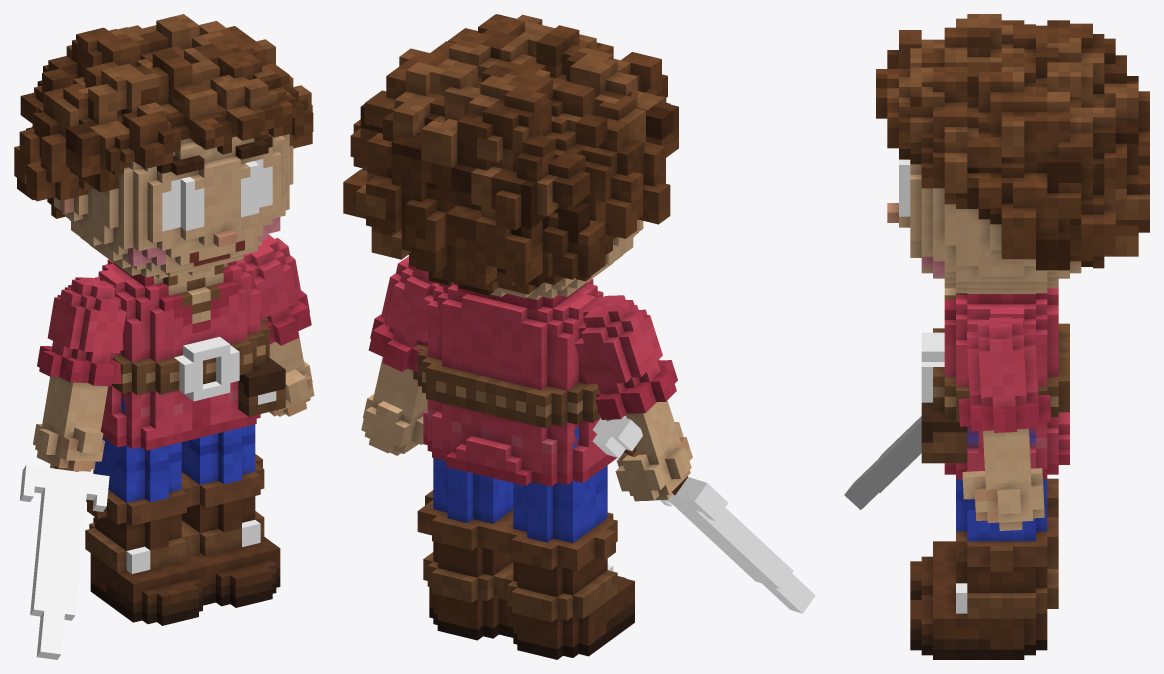
File: voxel.glb
3 renders of one model, left to right at view 1: azimuth 30°, elevation 25°; view 2: azimuth 150°, elevation 25°; view 3: azimuth 270°, elevation 25°, orthographic. The views are drawn at different scales.
Visible parts, largest first — view 1: HeadVox, BodyVox, LegRVox, LegLVox, ArmRVox, SwordVox, ArmLVox, HandRVox, HandLVox; view 2: HeadVox, BodyVox, LegRVox, LegLVox, ArmRVox, SwordVox, ArmLVox, HandRVox, HandLVox; view 3: HeadVox, LegLVox, BodyVox, ArmLVox, HandLVox, SwordVox, LegRVox.
Part boxes in pixels (<box>): HeadVox: <box>14,14,313,278</box>; BodyVox: <box>94,254,285,450</box>; LegRVox: <box>85,395,206,625</box>; LegLVox: <box>181,424,280,607</box>; ArmRVox: <box>37,277,126,431</box>; SwordVox: <box>20,464,109,659</box>; ArmLVox: <box>242,234,311,373</box>; HandRVox: <box>33,418,104,471</box>; HandLVox: <box>269,361,314,416</box>; HeadVox: <box>343,14,678,299</box>; BodyVox: <box>413,279,616,486</box>; LegRVox: <box>497,426,634,659</box>; LegLVox: <box>417,458,513,640</box>; ArmRVox: <box>575,295,677,458</box>; SwordVox: <box>592,416,815,613</box>; ArmLVox: <box>368,256,439,418</box>; HandRVox: <box>615,422,692,501</box>; HandLVox: <box>361,394,427,455</box>; HeadVox: <box>876,14,1149,293</box>; LegLVox: <box>910,427,1058,659</box>; BodyVox: <box>921,288,1069,479</box>; ArmLVox: <box>959,317,1051,483</box>; HandLVox: <box>962,468,1044,530</box>; SwordVox: <box>844,416,921,509</box>; LegRVox: <box>910,478,1058,599</box>.
Bounding box in the file's own units: 1.3 × 1.96 × 0.9383.
